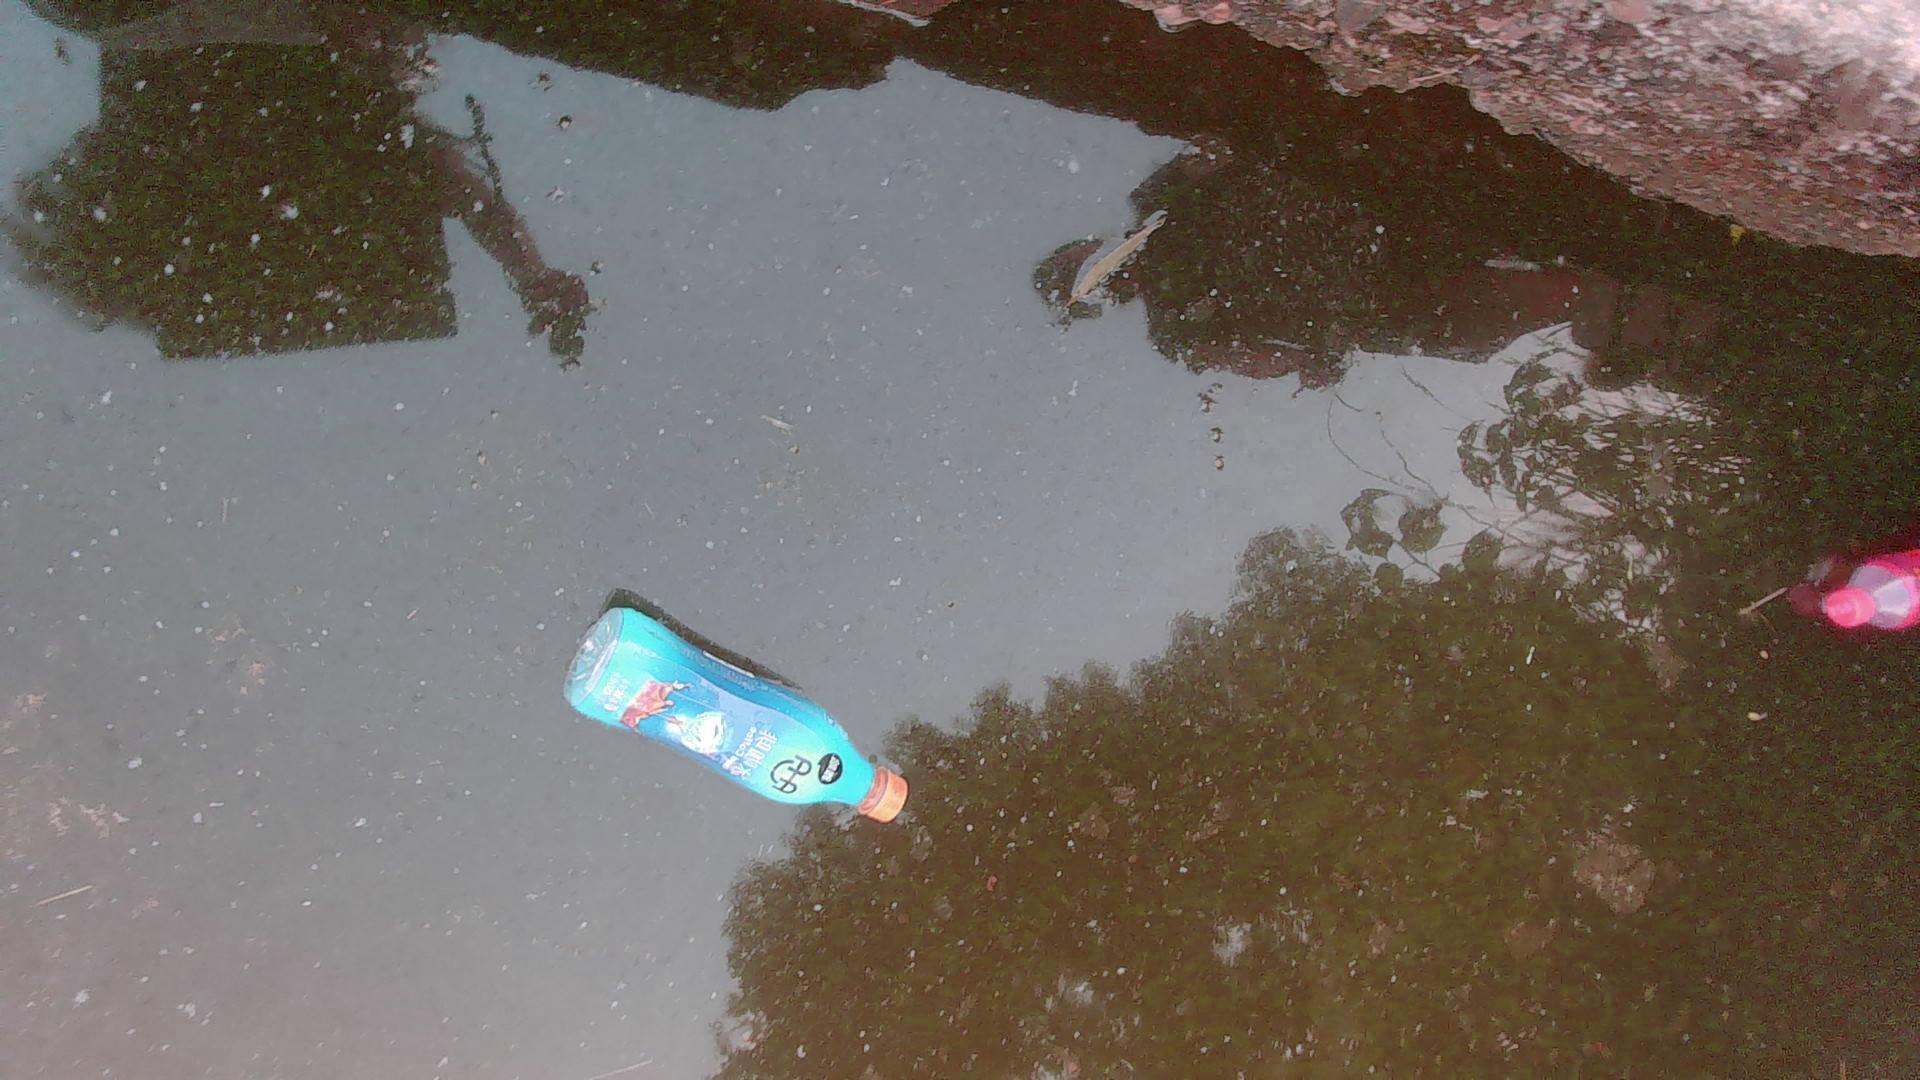Plastic: (560, 604, 913, 825)
